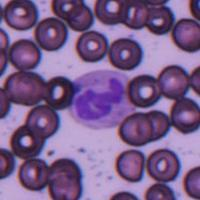N: (68, 68, 134, 130)
